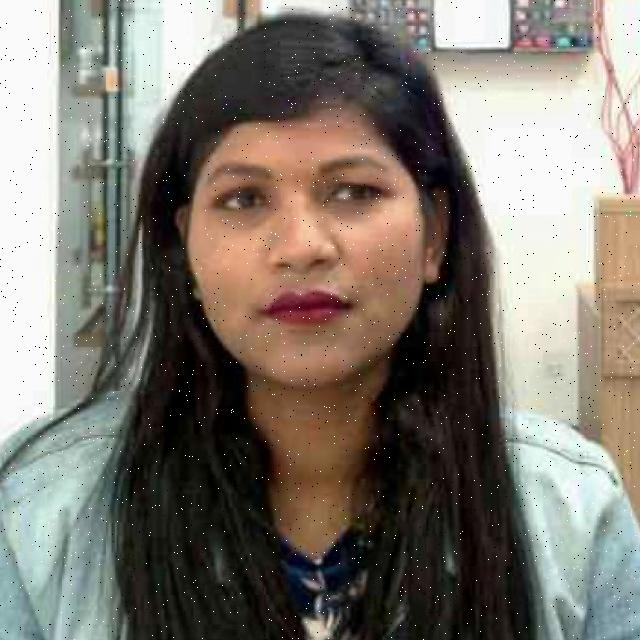puffy_eyes: (214, 200, 277, 229), (320, 190, 373, 217)
